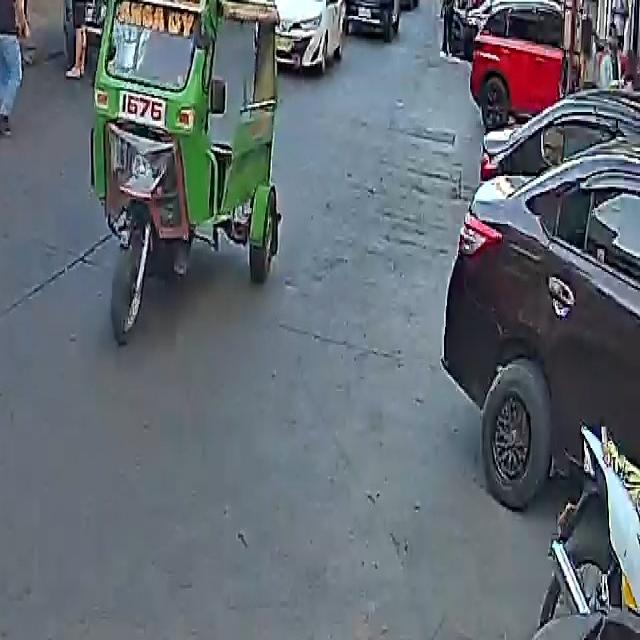car: (444, 57, 640, 536), (467, 0, 593, 126), (271, 0, 348, 71), (343, 0, 401, 36)
